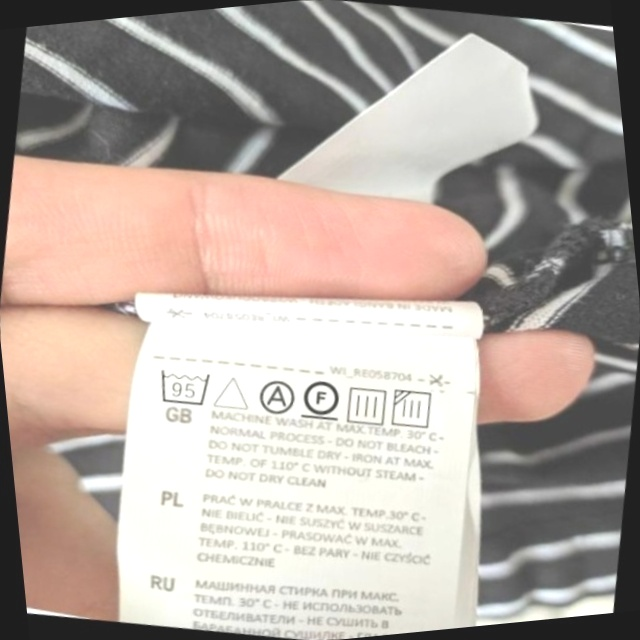95C: (152, 360, 218, 413)
bleach: (210, 367, 255, 417)
drip_dry: (340, 379, 394, 431)
drip_dry_in_shade: (387, 382, 442, 437)
dry_clean: (252, 374, 300, 420)
dry_clean_petrol_only: (297, 371, 347, 426)
